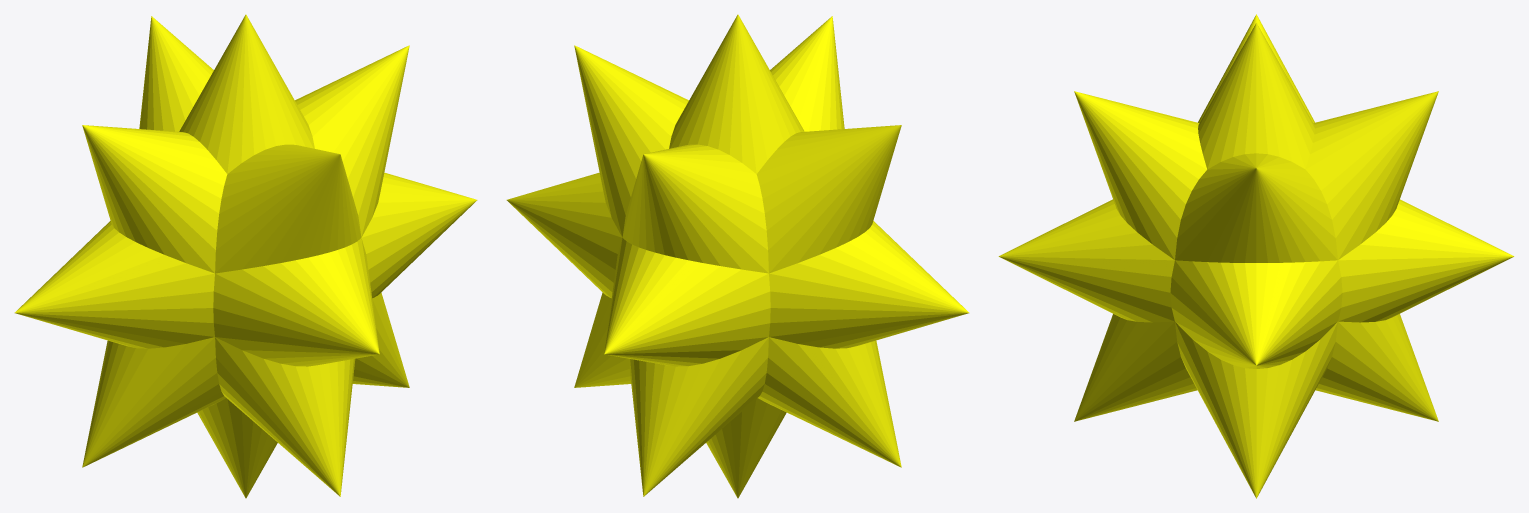
File: Star.glb
3 renders of one model, left to right at view 1: azimuth 30°, elevation 25°; view 2: azimuth 150°, elevation 25°; view 3: azimuth 270°, elevation 25°, orthographic. The views are drawn at different scales.
Visible parts, largest first — view 1: star; view 2: star; view 3: star.
Boxes of the visible parts, x1,y1,x2,y2 form: star: [14, 14, 477, 498]; star: [506, 14, 969, 498]; star: [998, 14, 1514, 498].
Bounding box in the file's own units: 13.6 × 13.6 × 13.6.
